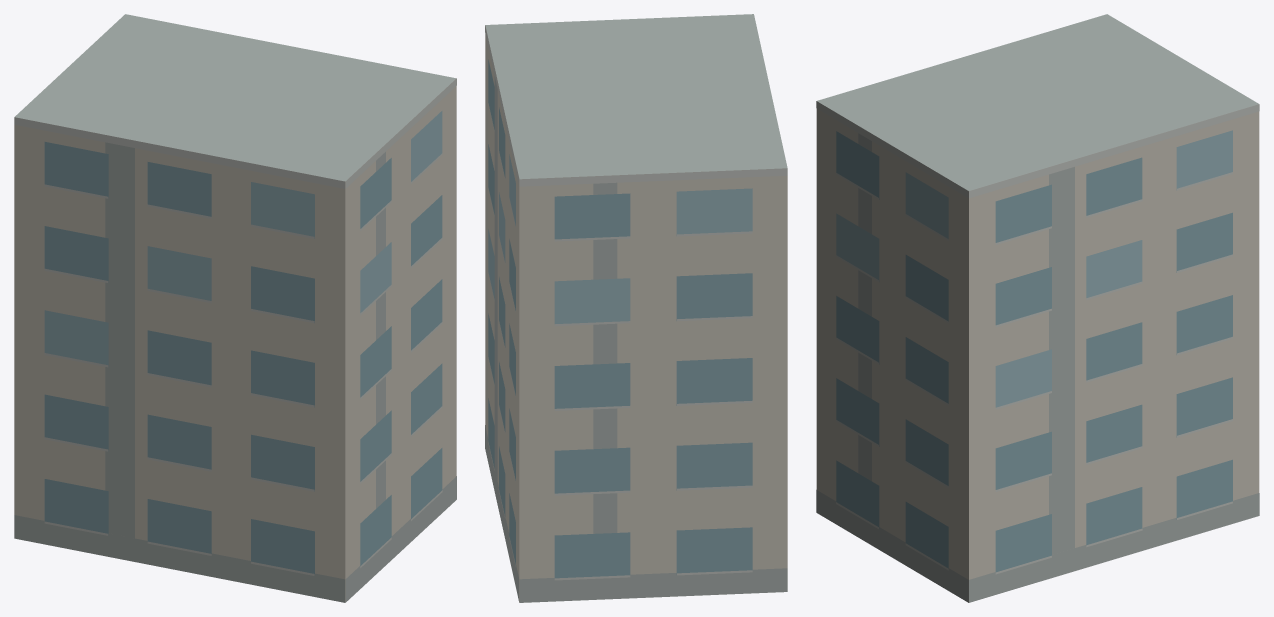
File: survey-upis-32678062.glb
3 views of the same model, side by side, from view 1: azimuth 30°, elevation 25°; view 2: azimuth 150°, elevation 25°; view 3: azimuth 270°, elevation 25° (orthographic). The views are drawn at different scales.
Parts seen in each view (by area): view 1: survey-upis-32678062.tmp; view 2: survey-upis-32678062.tmp; view 3: survey-upis-32678062.tmp.
Boxes of the visible parts, bbox=[...] form: survey-upis-32678062.tmp: bbox=[14, 14, 456, 602]; survey-upis-32678062.tmp: bbox=[485, 14, 787, 602]; survey-upis-32678062.tmp: bbox=[816, 14, 1259, 602].
Bounding box in the file's own units: 12.65 × 13.7 × 13.37.
